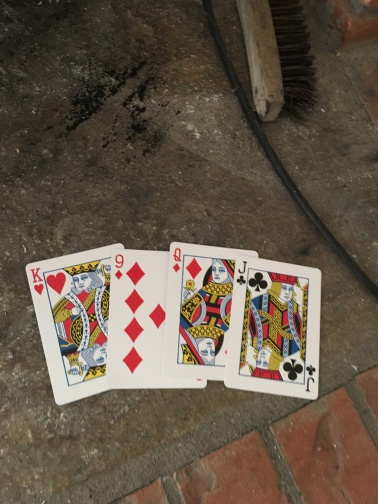jack: (225, 257, 323, 402)
king: (24, 253, 111, 403)
nine: (111, 245, 172, 388)
queen: (166, 239, 231, 382)
